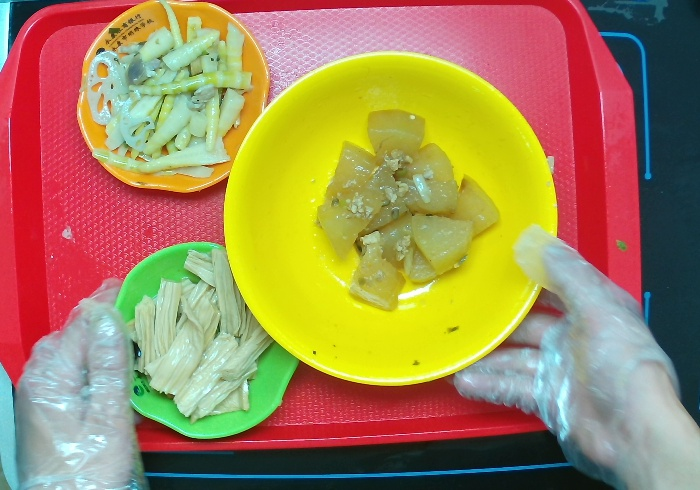YKMZ-Huang_Se_Tang_Wan: (224, 51, 561, 387)
YKMZ-Ju_Se_Ao_Bian_Wan: (78, 1, 271, 195)
YKMZ-Lv_Se_Ao_Bian_Wan: (110, 242, 302, 443)
